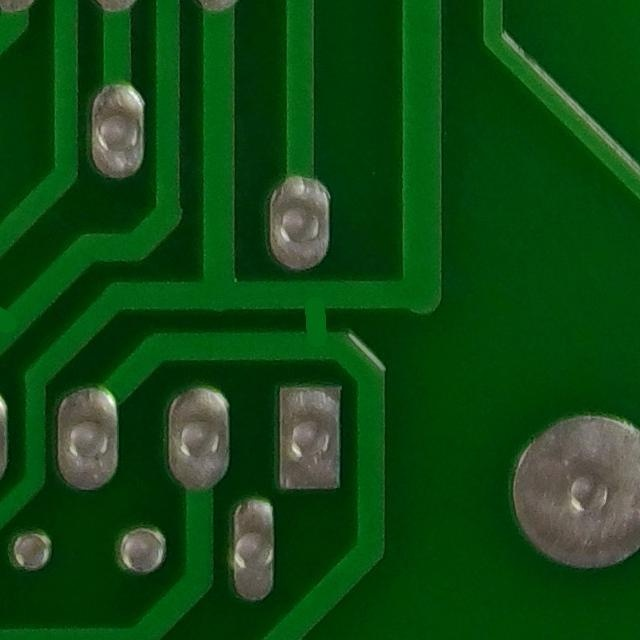short: (274, 270, 366, 370)
